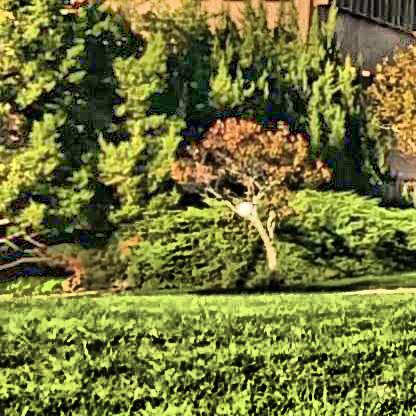golfball: (234, 198, 249, 215)
